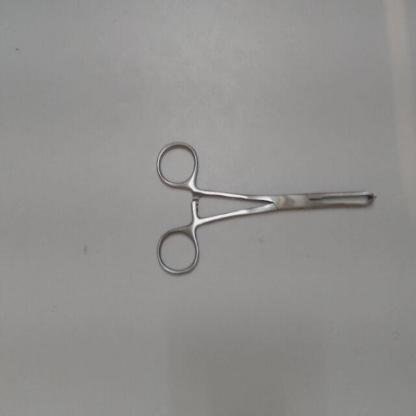Allis Tissue Forceps: (152, 132, 384, 288)
